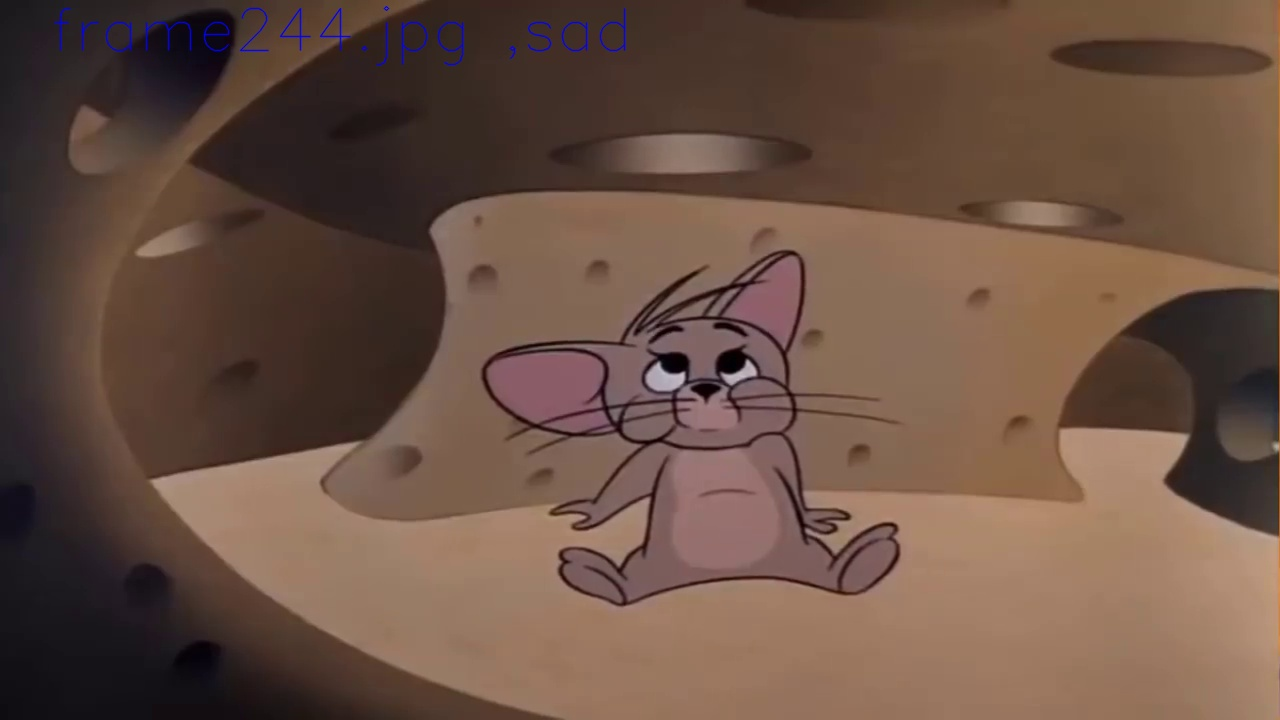surprised: (651, 325, 764, 436)
